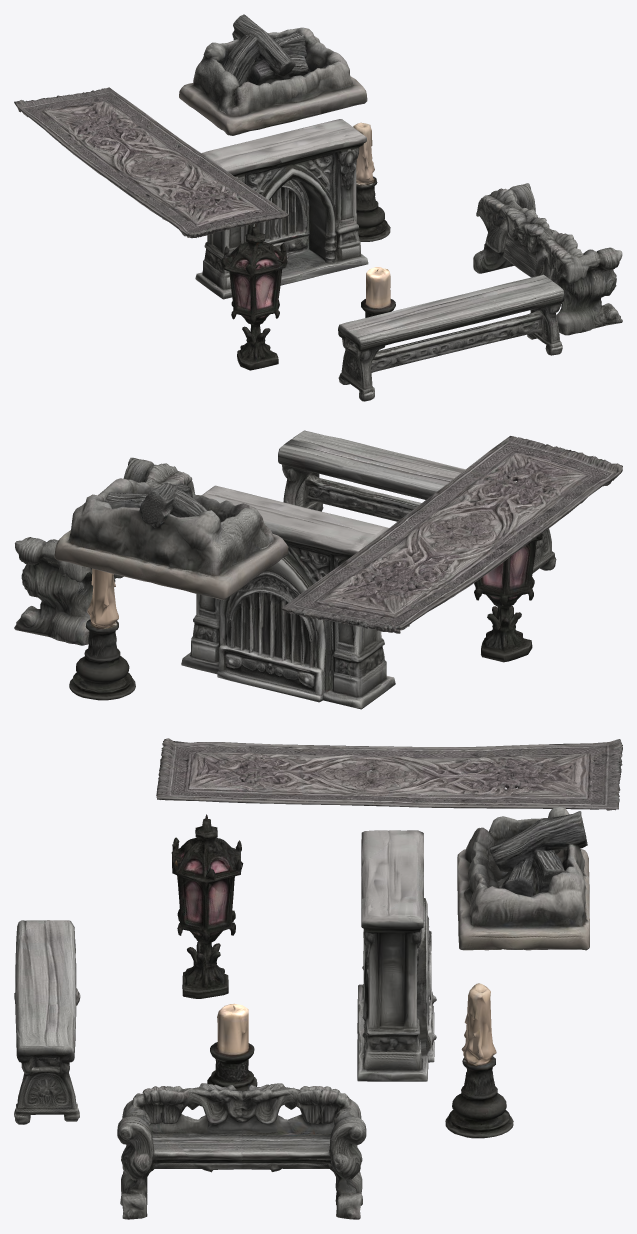
File: furniture_sheet_hearth_a.glb
3 views of the same model, one above another, from view 1: azimuth 30°, elevation 25°; view 2: azimuth 150°, elevation 25°; view 3: azimuth 270°, elevation 25° (orthographic). The views are drawn at different scales.
Bounding box in the file's own units: 1.9 × 0.9778 × 1.89.
Materials: 1 (1 with a texture image).
